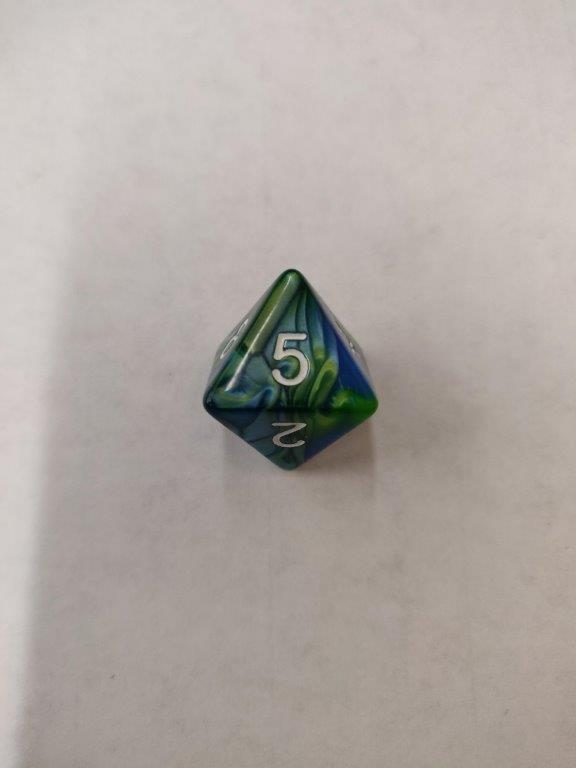d8-5: (199, 269, 380, 473)
